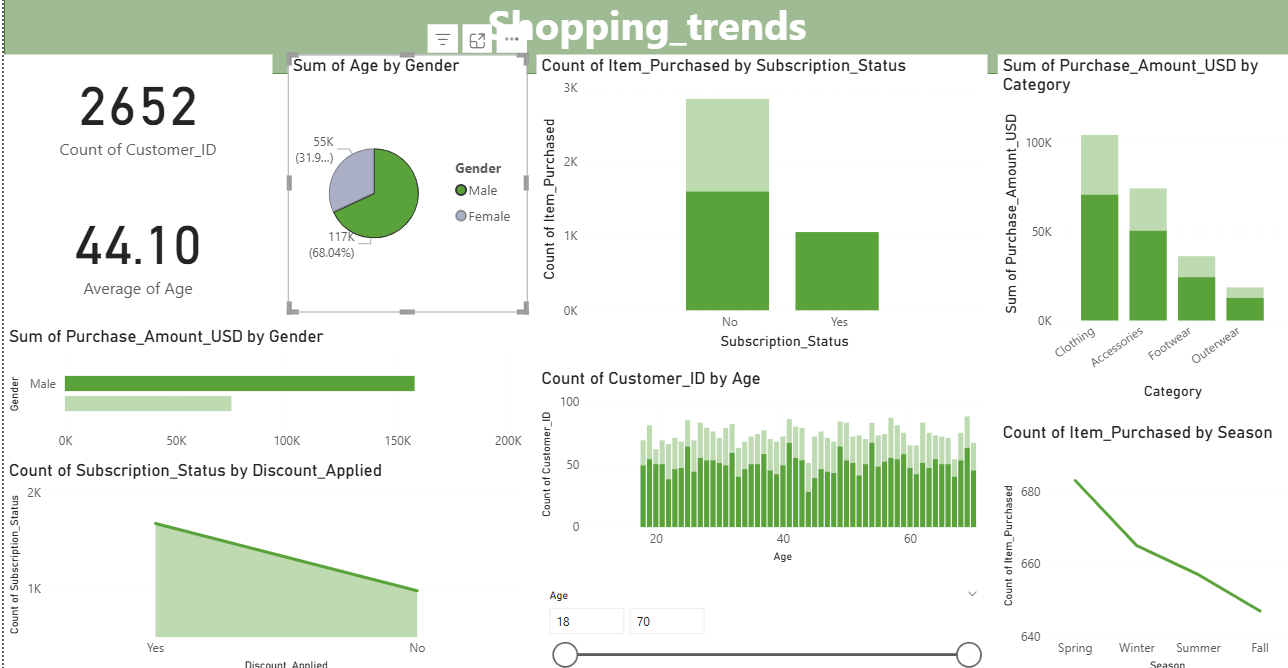

This screenshot's page, from the dashboard's own definition file:
{"tool":"powerbi","page":{"name":"Page 1","canvas":[1280,720],"ordinal":0},"visuals":[{"type":"shape","box":[0,20.6,1280.3,100.2],"z":0},{"type":"pieChart","fields":{"Category":["shopping_trends.Gender"],"Y":["Sum(shopping_trends.Age)"]},"box":[282.9,101.9,237.7,257.5],"z":1000},{"type":"clusteredColumnChart","fields":{"Y":["Sum(shopping_trends.Purchase_Amount_USD)"],"Category":["shopping_trends.Category"]},"box":[989.5,101.6,290.8,348.6],"z":2000},{"type":"columnChart","fields":{"Category":["shopping_trends.Subscription_Status"],"Y":["CountNonNull(shopping_trends.Item_Purchased)"]},"box":[530.5,101.9,448.5,298.5],"z":3000},{"type":"card","fields":{"Values":["CountNonNull(shopping_trends.Customer_ID)"]},"box":[0,101.6,267.3,111],"z":4000},{"type":"card","fields":{"Values":["Avg(shopping_trends.Age)"]},"box":[0,231.4,267.3,128.2],"z":5000},{"type":"barChart","fields":{"Category":["shopping_trends.Gender"],"Y":["Sum(shopping_trends.Purchase_Amount_USD)"]},"box":[0,372.1,520.6,132.9],"z":6000},{"type":"areaChart","fields":{"Category":["shopping_trends.Discount_Applied"],"Y":["CountNonNull(shopping_trends.Subscription_Status)"]},"box":[0,504.9,520.6,215.7],"z":7000},{"type":"lineChart","fields":{"Category":["shopping_trends.Season"],"Y":["CountNonNull(shopping_trends.Item_Purchased)"]},"box":[989.5,467.4,290.8,253.2],"z":8000},{"type":"lineClusteredColumnComboChart","fields":{"Y":["CountNonNull(shopping_trends.Customer_ID)"],"Category":["shopping_trends.Age"]},"box":[530.5,414.5,447,198.1],"z":8001},{"type":"slicer","fields":{"Values":["shopping_trends.Age"]},"box":[530.5,628.1,451.3,92],"z":8002}]}

Visuals, with their boxes on the page's 1280x720 design canvas (x1, y1, x2, y2). These are canvas units, not pixel positions in the 1288x668 screenshot, which may show the page scaled, cropped or inside an application window:
shape: [left=0, top=21, right=1280, bottom=121]
pieChart - shopping_trends.Gender x Sum(shopping_trends.Age): [left=283, top=102, right=521, bottom=359]
clusteredColumnChart - Sum(shopping_trends.Purchase_Amount_USD) x shopping_trends.Category: [left=990, top=102, right=1280, bottom=450]
columnChart - shopping_trends.Subscription_Status x CountNonNull(shopping_trends.Item_Purchased): [left=530, top=102, right=979, bottom=400]
card - CountNonNull(shopping_trends.Customer_ID): [left=0, top=102, right=267, bottom=213]
card - Avg(shopping_trends.Age): [left=0, top=231, right=267, bottom=360]
barChart - shopping_trends.Gender x Sum(shopping_trends.Purchase_Amount_USD): [left=0, top=372, right=521, bottom=505]
areaChart - shopping_trends.Discount_Applied x CountNonNull(shopping_trends.Subscription_Status): [left=0, top=505, right=521, bottom=721]
lineChart - shopping_trends.Season x CountNonNull(shopping_trends.Item_Purchased): [left=990, top=467, right=1280, bottom=721]
lineClusteredColumnComboChart - CountNonNull(shopping_trends.Customer_ID) x shopping_trends.Age: [left=530, top=414, right=978, bottom=613]
slicer - shopping_trends.Age: [left=530, top=628, right=982, bottom=720]
